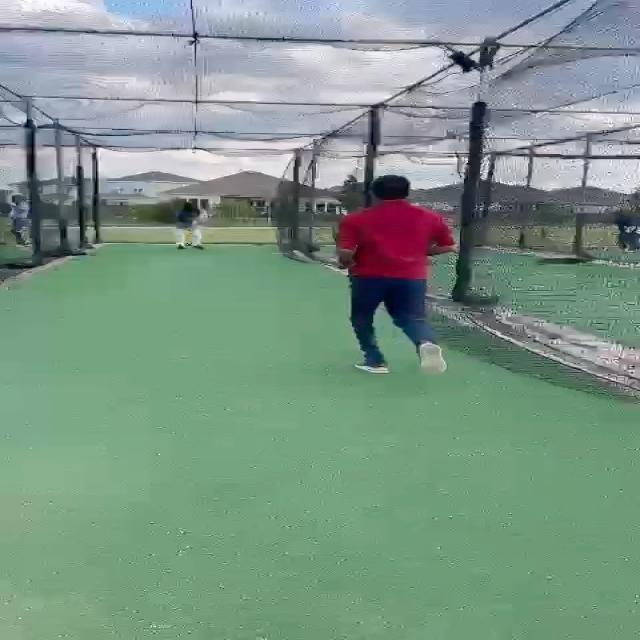batsman: (172, 201, 207, 250)
